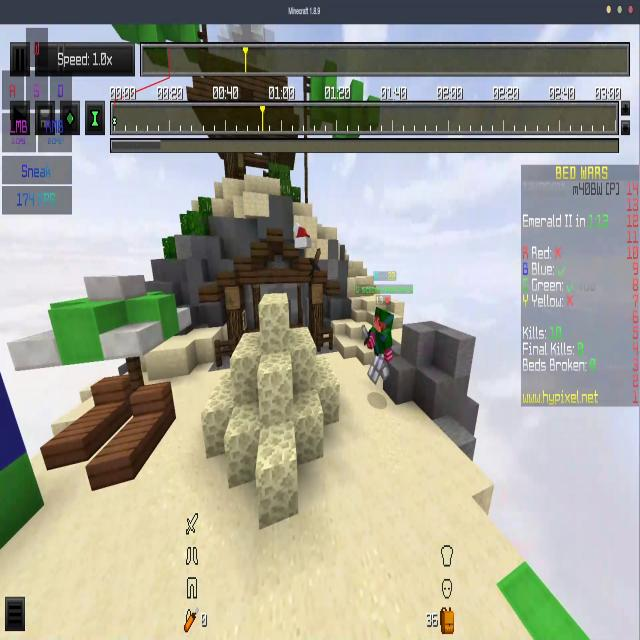Player: (361, 295, 396, 399)
